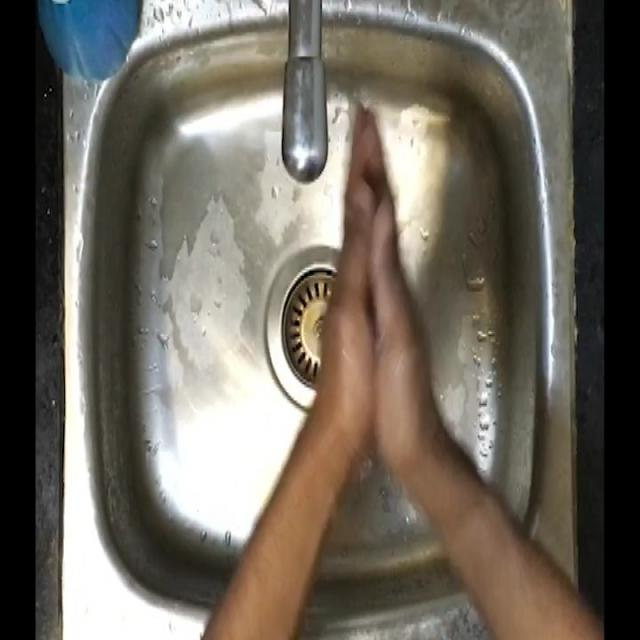step_1: (306, 89, 439, 434)
